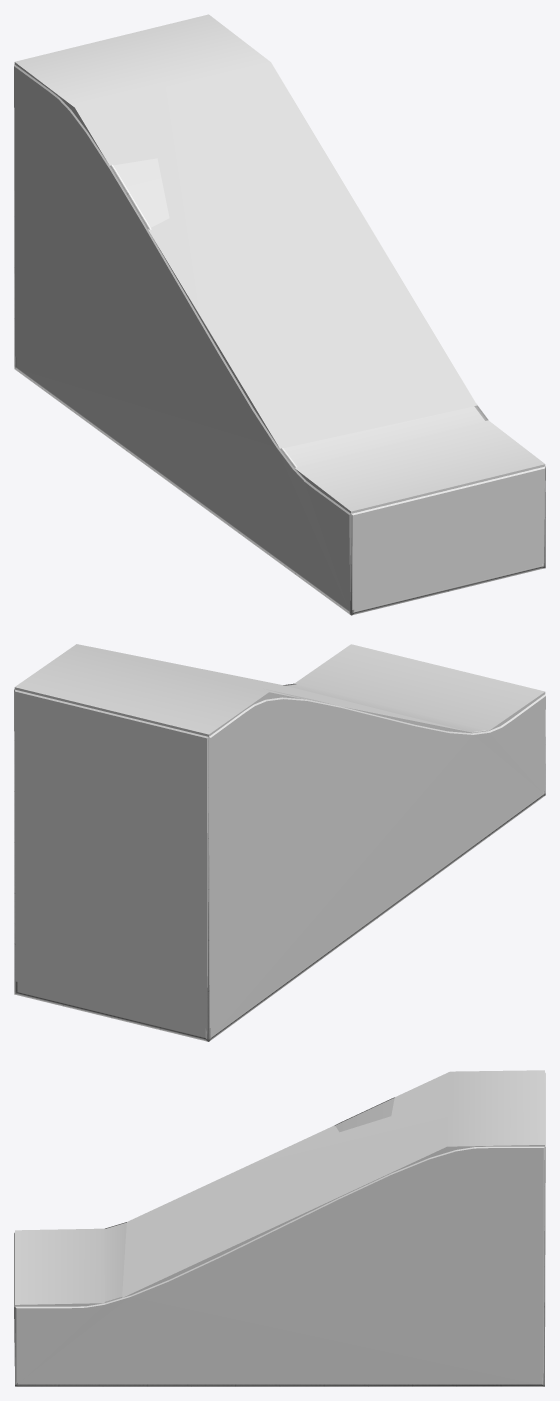
Rendered from s_gm_slope_30.dae.
The picture shows the model from 3 angles, top to bottom: view 1: azimuth 30°, elevation 25°; view 2: azimuth 150°, elevation 25°; view 3: azimuth 270°, elevation 25°; orthographic projection. The views are drawn at different scales.
Visible parts, largest first — view 1: slope_30_a80, Colmesh_slope_30-1, slope_30_a800; view 2: Colmesh_slope_30-1, slope_30_a80, slope_30_a800; view 3: Colmesh_slope_30-1, slope_30_a80, slope_30_a800.
Part boxes in pixels (x1,y1,x2,y2): slope_30_a80: (14,14,545,513); Colmesh_slope_30-1: (14,64,545,611); slope_30_a800: (14,71,545,615); Colmesh_slope_30-1: (14,684,545,1037); slope_30_a80: (14,644,545,736); slope_30_a800: (14,683,545,1041); Colmesh_slope_30-1: (14,1072,545,1384); slope_30_a80: (15,1070,544,1306); slope_30_a800: (15,1097,544,1386).
Bounding box in the file's own units: 8.1 × 24.1 × 12.09.
